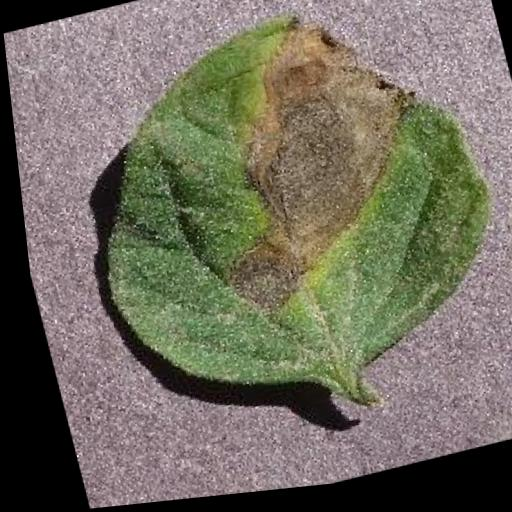Early Blight: (41, 0, 512, 430)
